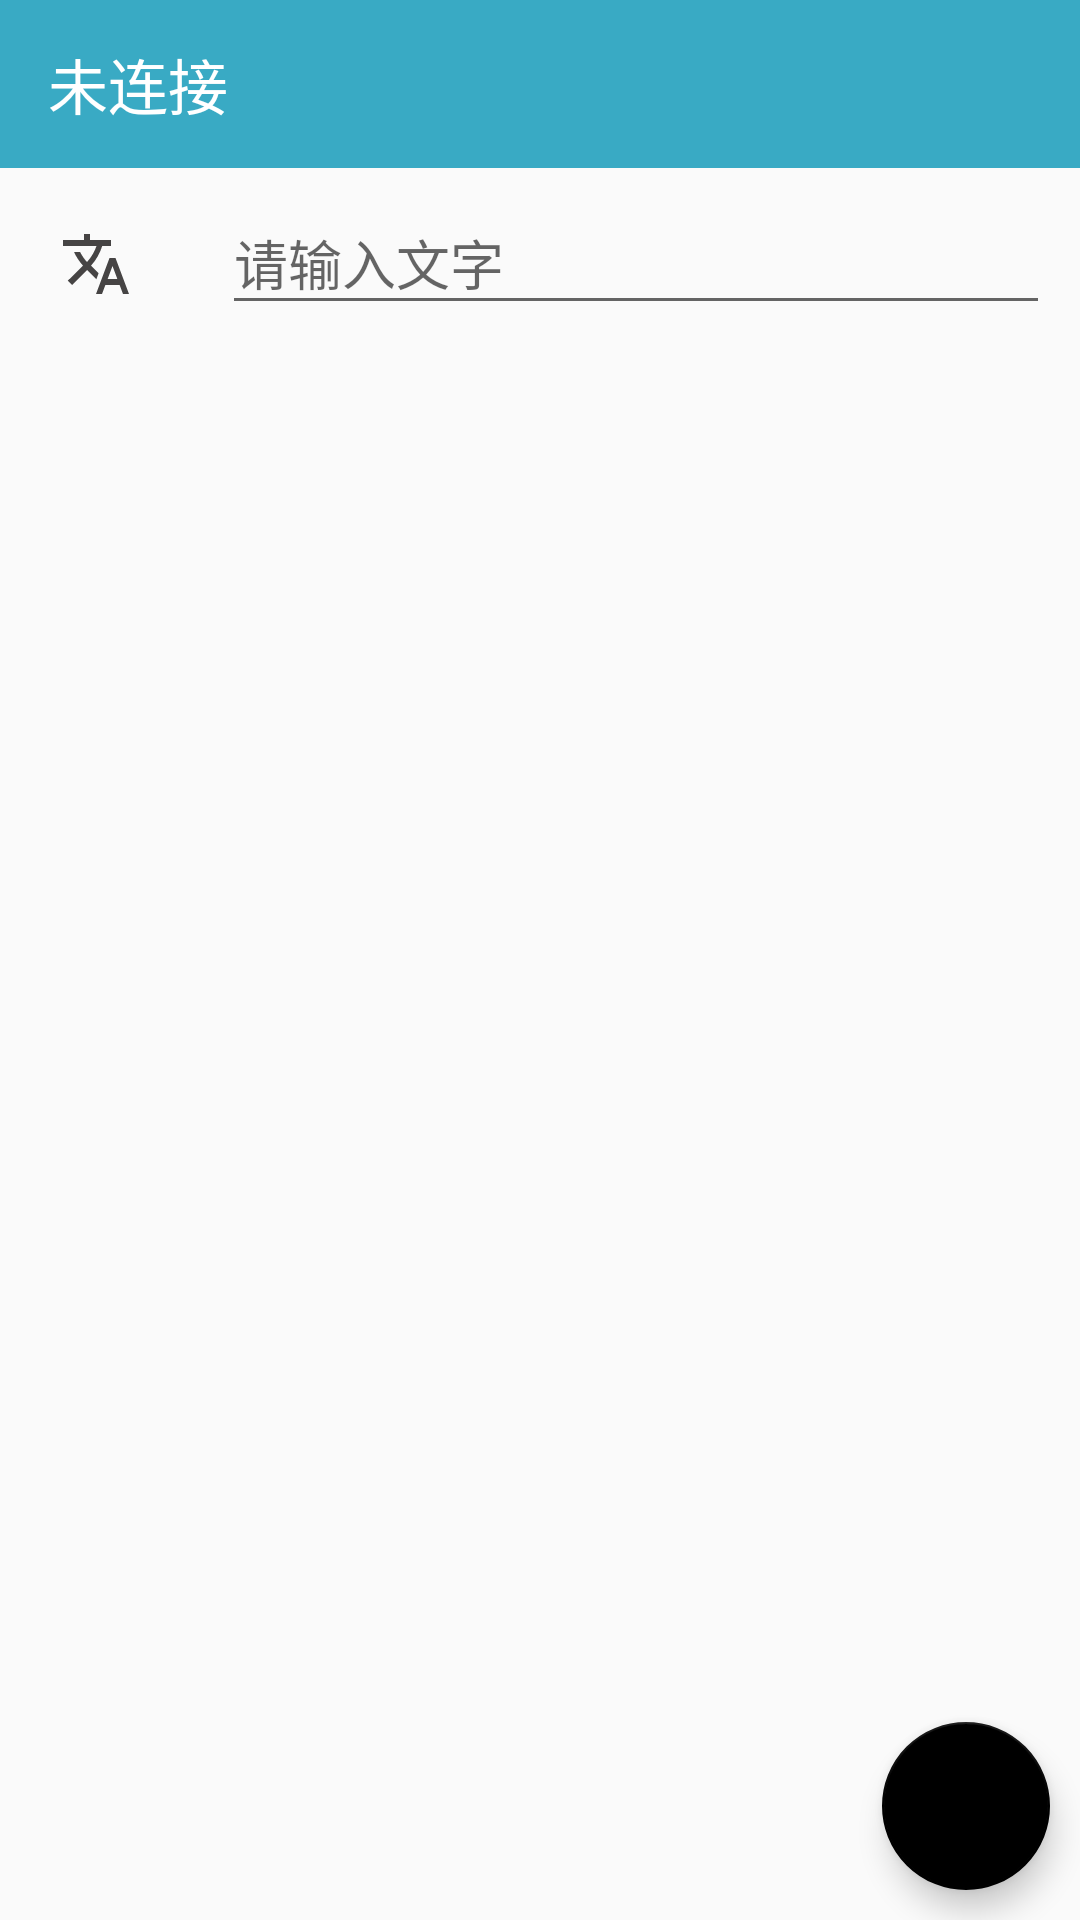

Icon click points for this 1080*1920 phone screenshot, format (x,y):
translate: (96,264)
